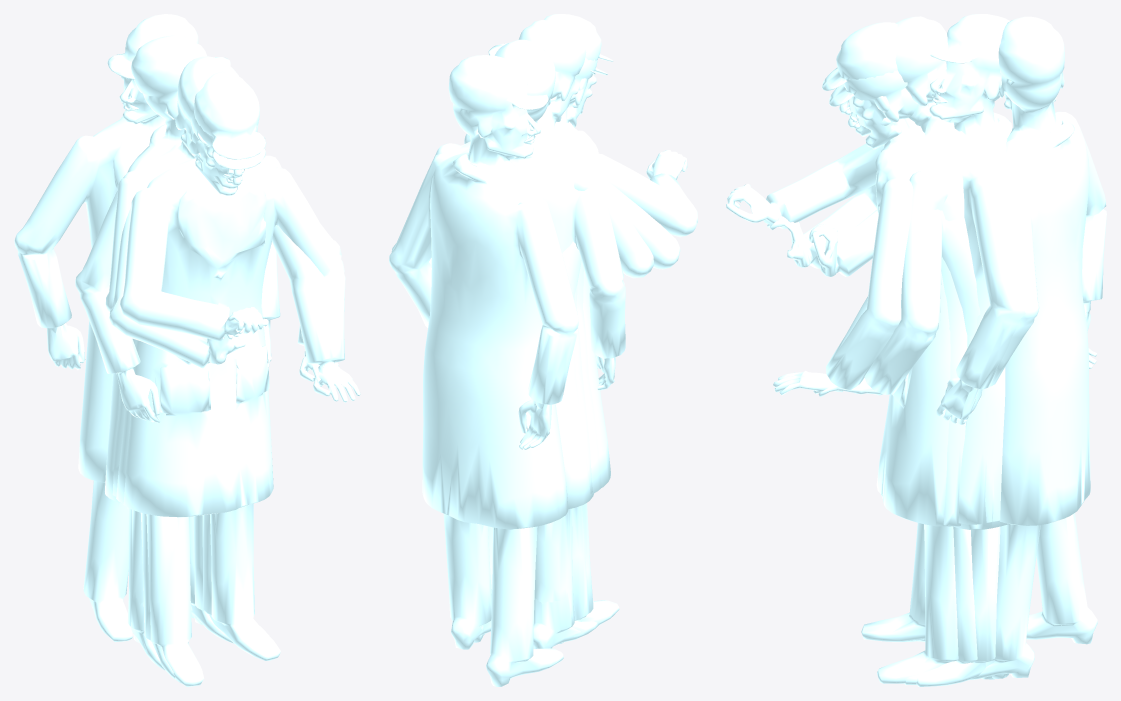
File: echo_operator.glb
The picture shows the model from 3 angles, left to right: view 1: azimuth 30°, elevation 25°; view 2: azimuth 150°, elevation 25°; view 3: azimuth 270°, elevation 25°; orthographic projection. The views are drawn at different scales.
Parts seen in each view (by area): view 1: pose_reach, pose_done, pose_idle, pose_pull, pose_knob; view 2: pose_done, pose_idle, pose_pull, pose_knob, pose_reach; view 3: pose_done, pose_reach, pose_idle, pose_knob, pose_pull.
Boxes of the visible parts, x1,y1,x2,y2 form: pose_reach: (120, 71, 345, 686); pose_done: (14, 14, 234, 643); pose_idle: (75, 35, 280, 656); pose_pull: (105, 56, 360, 683); pose_knob: (105, 113, 341, 670); pose_done: (389, 55, 578, 686); pose_idle: (391, 39, 625, 648); pose_pull: (464, 20, 653, 643); pose_knob: (534, 57, 680, 647); pose_reach: (544, 14, 697, 616); pose_done: (965, 16, 1106, 680); pose_reach: (726, 22, 958, 683); pose_idle: (916, 14, 1026, 686); pose_knob: (767, 70, 1008, 678); pose_pull: (773, 16, 994, 685).
Bounding box in the file's own units: 0.7863 × 1.79 × 0.969.
